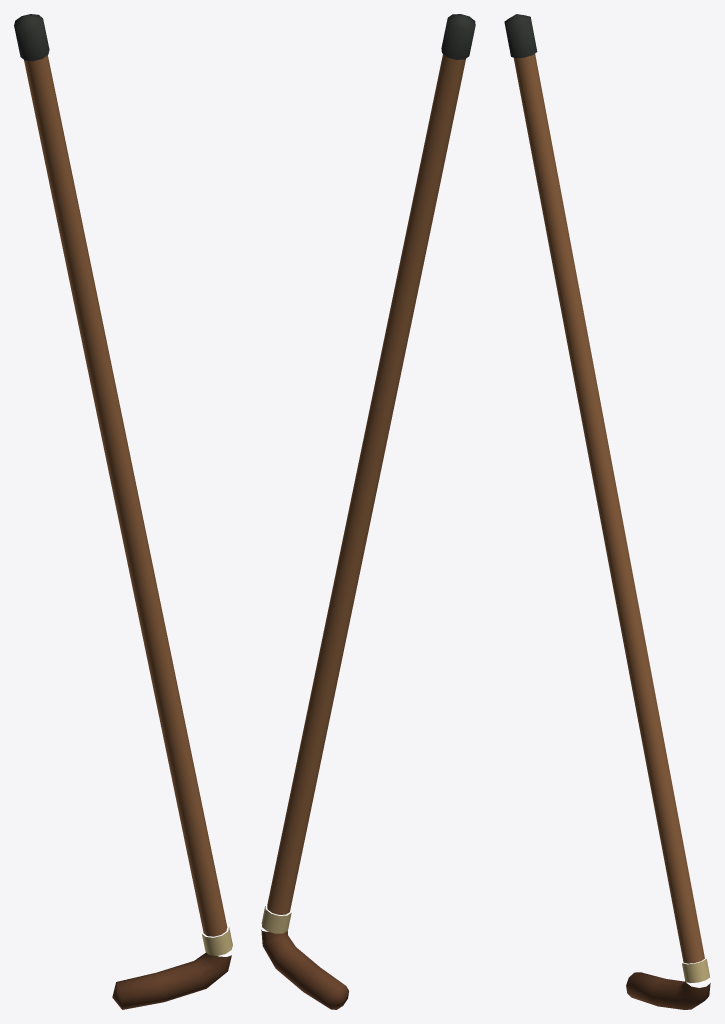
Rendered from old-cane-tonico.glb.
3 renders of one model, left to right at view 1: azimuth 30°, elevation 25°; view 2: azimuth 150°, elevation 25°; view 3: azimuth 330°, elevation 25°, orthographic. The views are drawn at different scales.
Visible parts, largest first — view 1: Acc_Male_Hand_Cane; view 2: Acc_Male_Hand_Cane; view 3: Acc_Male_Hand_Cane.
Boxes of the visible parts, bbox=[...] form: Acc_Male_Hand_Cane: bbox=[14, 14, 232, 1009]; Acc_Male_Hand_Cane: bbox=[261, 14, 475, 1009]; Acc_Male_Hand_Cane: bbox=[504, 14, 710, 1009].
Size of the model in its own units: 0.1071 by 0.4918 by 0.0274.
